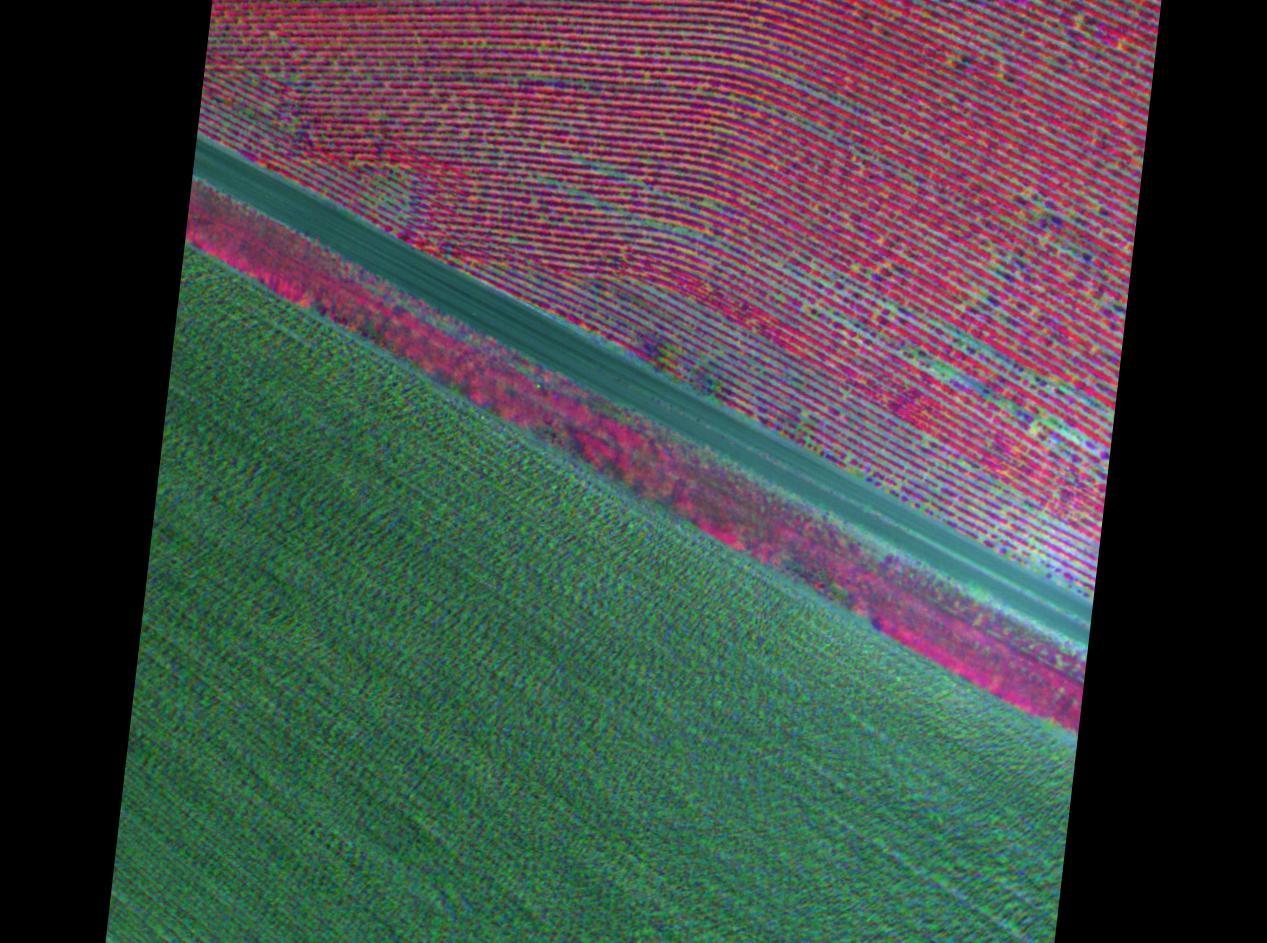dc: (975, 295, 979, 299), (888, 305, 892, 309), (933, 369, 937, 373), (282, 42, 285, 45), (802, 417, 804, 420)
